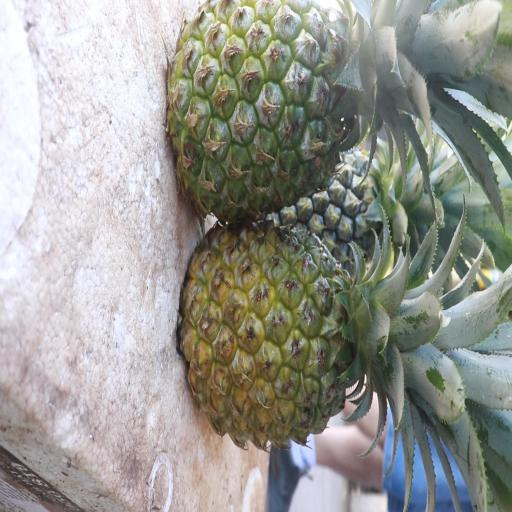------------------------------: (172, 3, 380, 212)
Pineapple - v8 v1: (185, 220, 400, 448)
